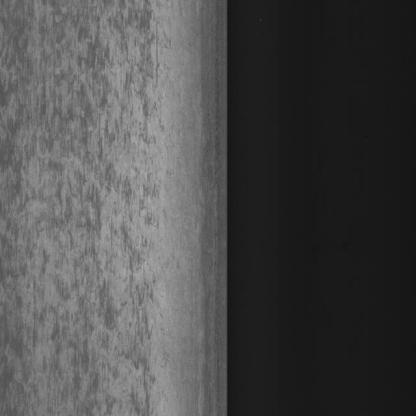silk_spot: (0, 4, 168, 395)
